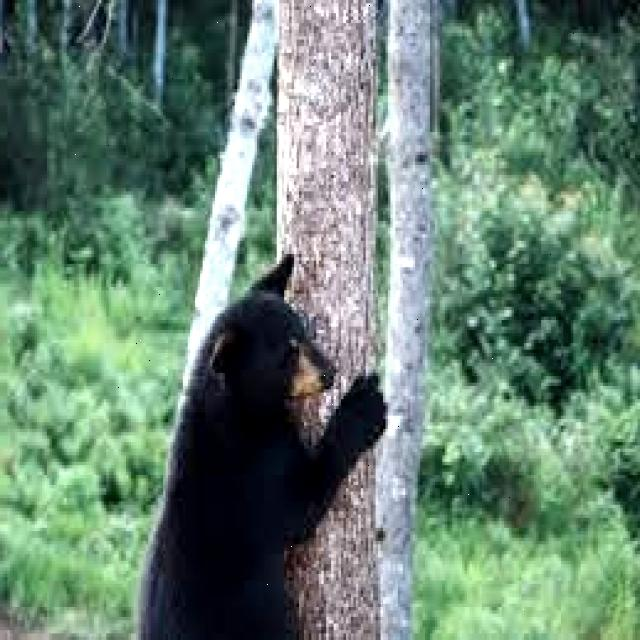bear: (149, 250, 385, 640)
